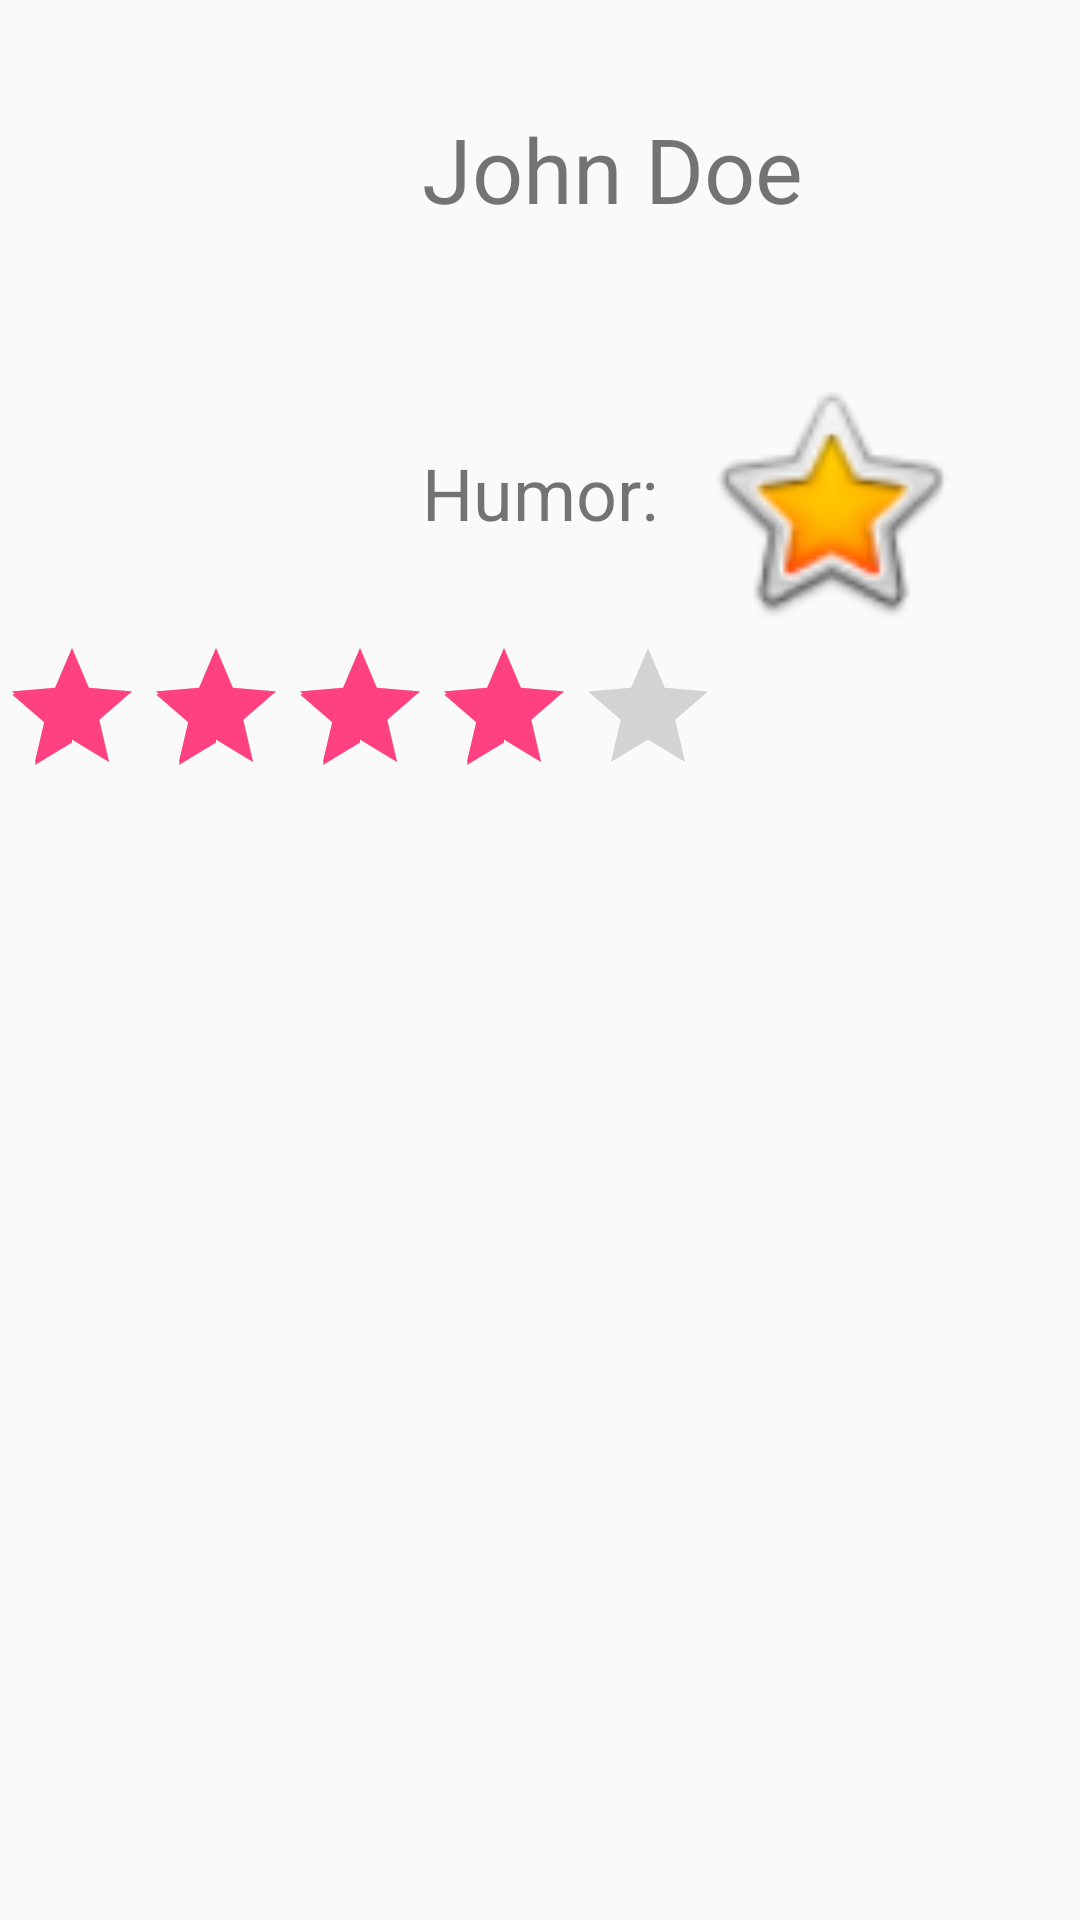

Where to tap for icons on this 1080x1920 app screen, as (x=x, y=y):
star on: (x=831, y=503)
